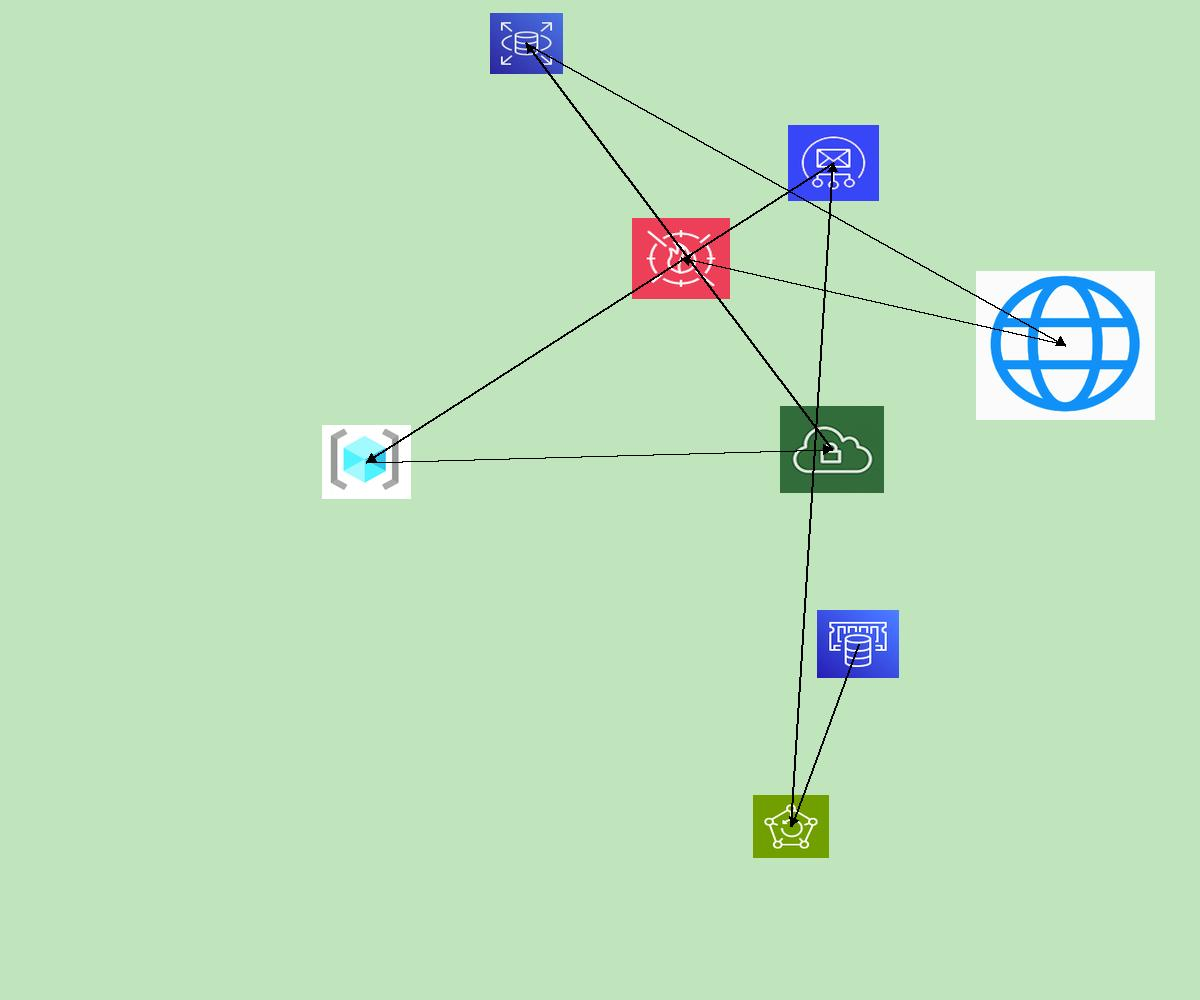AWS-Backup: (753, 795, 829, 858)
AWS-ElastiCache: (817, 610, 899, 678)
AWS-Private_vpc: (780, 406, 884, 493)
AWS-RDS: (490, 13, 563, 74)
AWS-Simple-Email-Service: (788, 125, 879, 201)
AWS-WAF: (632, 218, 730, 299)
Azure_http: (976, 271, 1155, 420)
Azure_resource_group: (322, 425, 411, 499)
